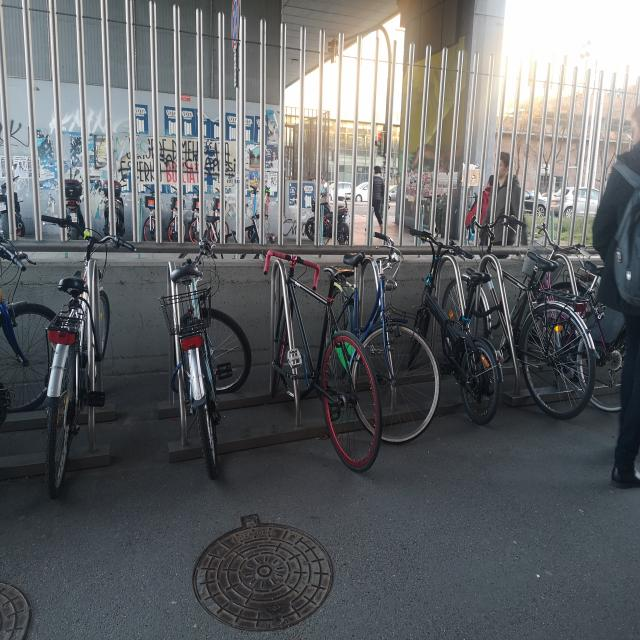Bicycle: (251, 230, 385, 507), (459, 179, 605, 423), (333, 209, 446, 459), (394, 210, 504, 443), (535, 215, 640, 424), (51, 225, 122, 497), (168, 225, 244, 475), (0, 203, 74, 411)
